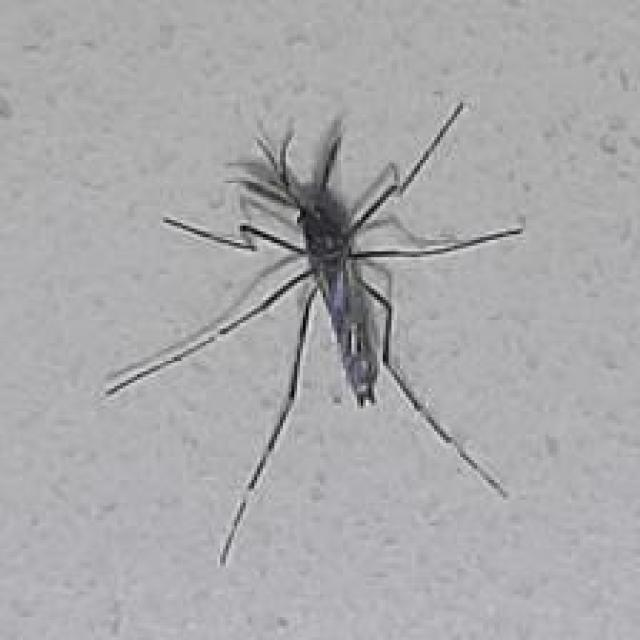Aedes albopictus: (102, 99, 524, 567)
